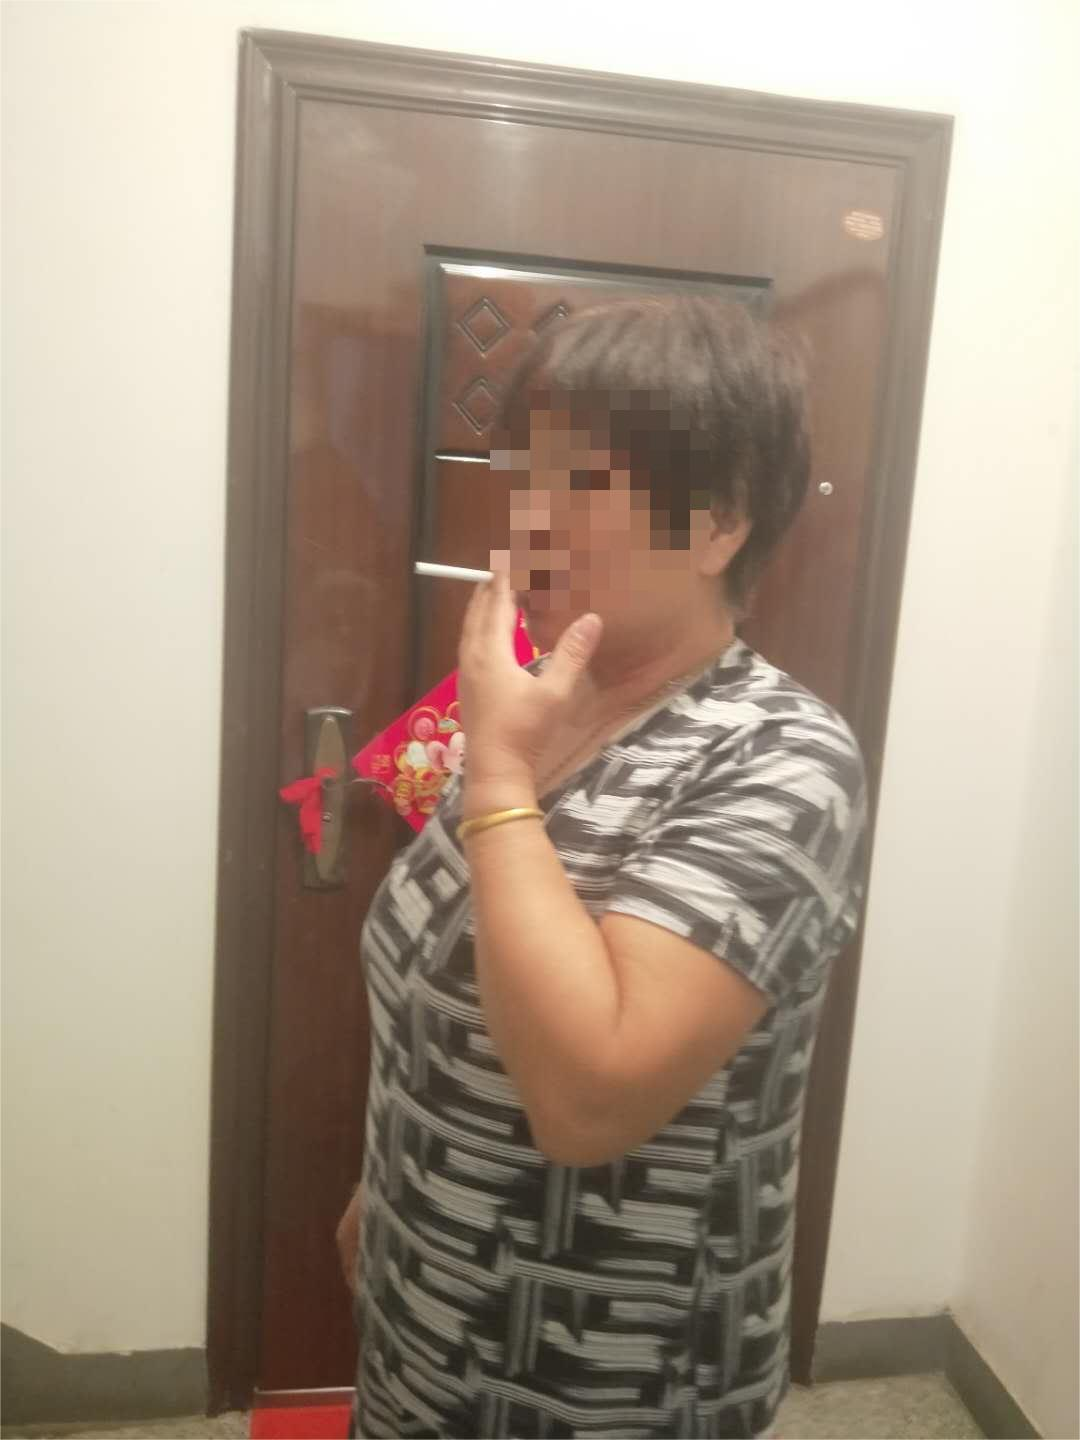smoke: (404, 554, 498, 591)
